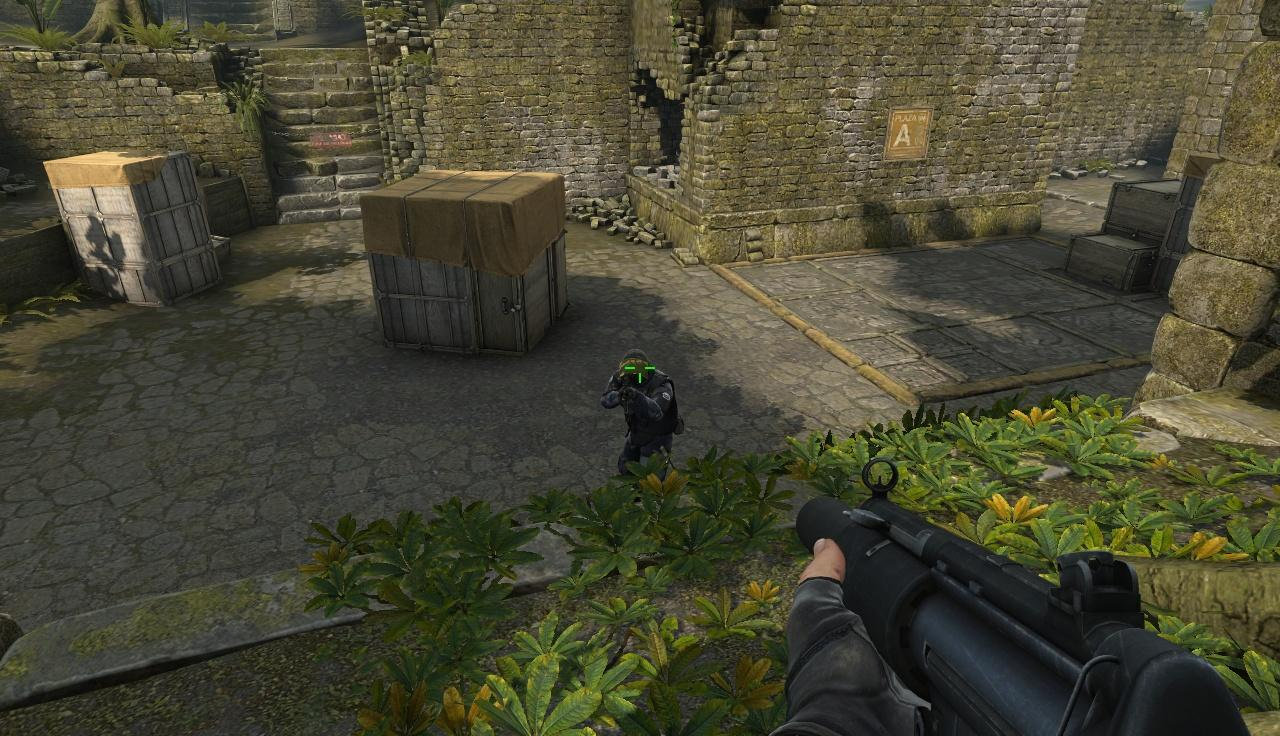ct: (613, 351, 682, 477)
cthead: (622, 351, 651, 383)
rifle: (796, 453, 1267, 732)
